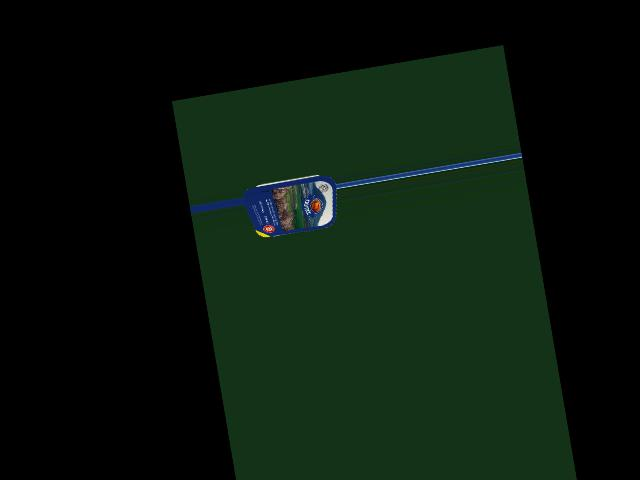cheese: (249, 166, 336, 241)
